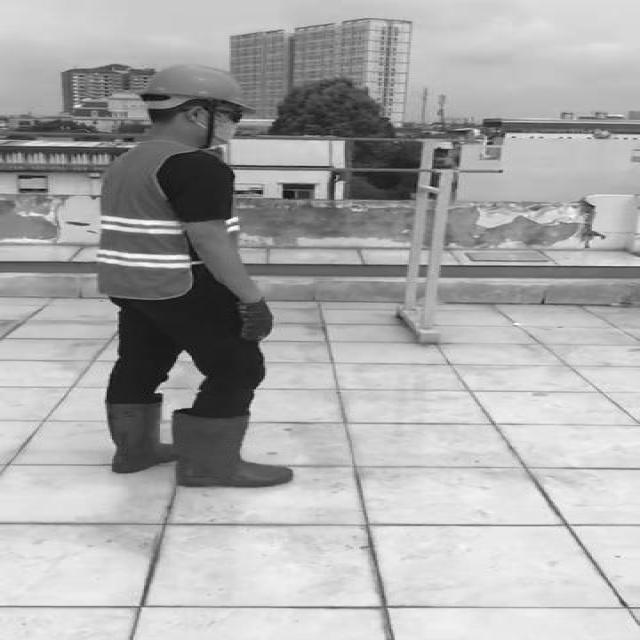boots: (171, 414, 295, 486), (107, 403, 167, 473)
face_mask: (92, 62, 303, 492), (201, 102, 251, 145)
hand_glove: (238, 299, 274, 343)
head_helmet: (140, 62, 255, 112)
vest: (96, 148, 236, 299)
